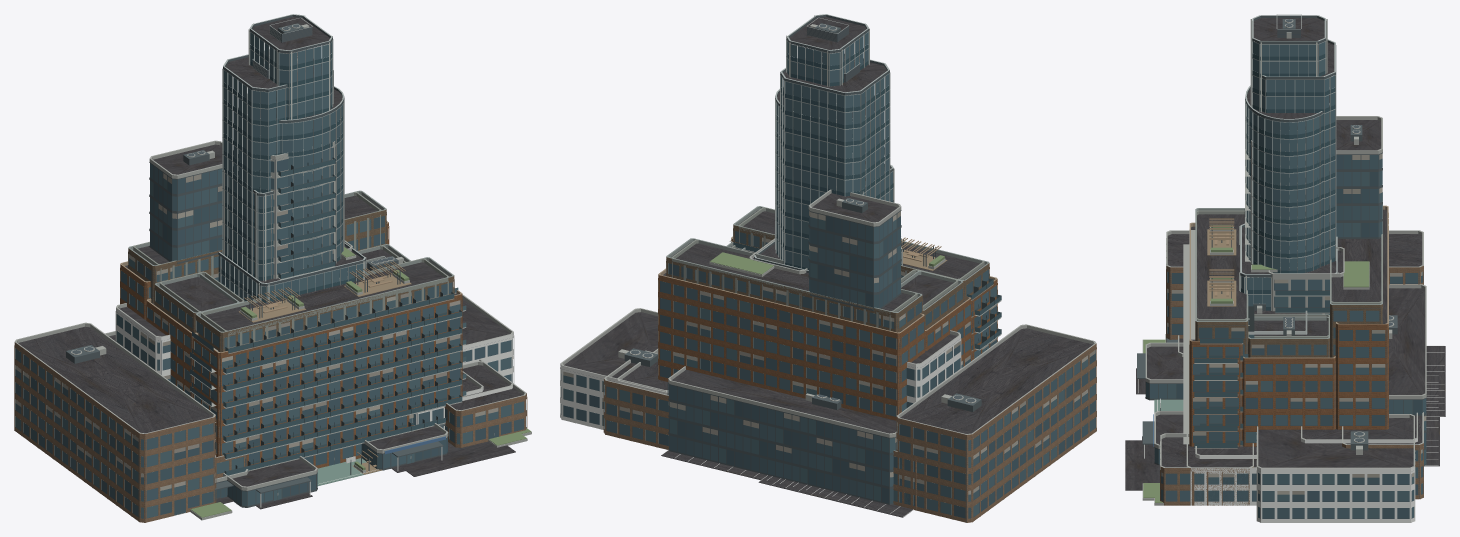
The model's file is modern.glb.
The picture shows the model from 3 angles, left to right: view 1: azimuth 30°, elevation 25°; view 2: azimuth 150°, elevation 25°; view 3: azimuth 270°, elevation 25°; orthographic projection.
Parts seen in each view (by area): view 1: site-college, perimeter-terrace-residences, perimeter-tower-residences, glass-podium-offices, perimeter-campus-offices, site-hospital, elliptic-glass-offices, slender-glass-offices, stepped-concrete-offices, balcony-podium-residences, site-highschool, site-headquarters (+1 smaller); view 2: site-college, perimeter-terrace-residences, perimeter-tower-residences, glass-podium-offices, perimeter-campus-offices, slender-glass-offices, site-highschool, site-hospital, elliptic-glass-offices, site-headquarters, stepped-concrete-offices; view 3: site-college, perimeter-terrace-residences, perimeter-tower-residences, elliptic-glass-offices, site-hospital, glass-podium-offices, slender-glass-offices, perimeter-campus-offices, site-highschool, split-wing-residences, site-headquarters, stepped-concrete-offices (+3 smaller).
Part boxes in pixels (x1,y1,x2,y2): site-college: (14,294,527,522); perimeter-terrace-residences: (120,220,466,475); perimeter-tower-residences: (128,140,458,403); glass-podium-offices: (222,49,333,290); perimeter-campus-offices: (133,192,448,348); site-hospital: (115,303,531,509); elliptic-glass-offices: (238,86,344,288); slender-glass-offices: (248,14,333,262); stepped-concrete-offices: (218,136,366,303); balcony-podium-residences: (233,141,339,293); site-highschool: (190,359,527,520); site-headquarters: (361,423,448,472); site-college: (560,308,1096,522); perimeter-terrace-residences: (658,236,1001,420); perimeter-tower-residences: (666,189,993,350); glass-podium-offices: (780,49,890,270); perimeter-campus-offices: (671,207,984,330); slender-glass-offices: (786,14,869,118); site-highschool: (603,350,917,510); site-hospital: (617,330,961,517); elliptic-glass-offices: (775,87,874,262); site-headquarters: (661,450,850,500); stepped-concrete-offices: (754,140,902,273); site-college: (1156,230,1426,522); perimeter-terrace-residences: (1183,205,1388,448); perimeter-tower-residences: (1189,116,1382,395); elliptic-glass-offices: (1245,85,1329,277); site-hospital: (1125,342,1445,505); glass-podium-offices: (1257,39,1336,265); slender-glass-offices: (1250,14,1327,116); perimeter-campus-offices: (1195,194,1382,338); site-highschool: (1142,339,1423,505); split-wing-residences: (1268,247,1344,314); site-headquarters: (1142,375,1439,466); stepped-concrete-offices: (1239,176,1339,310).
Bounding box in the file's own units: 82.78 × 75.34 × 54.75.
Materials: 13 (3 with a texture image).
